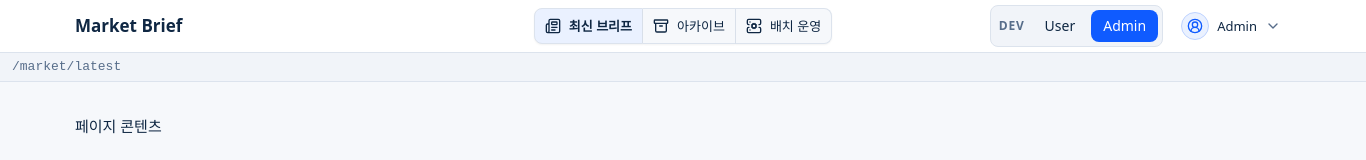
Test: AppShell › shows the role alone in the profile menu when the token carries no name
This screenshot has width=1366, height=160.
What coordinates should you click on to do the following:
click the button with aria-label "계정 메뉴"
I would click on:
 (1231, 26)
Its box is [1171, 8, 1291, 44].
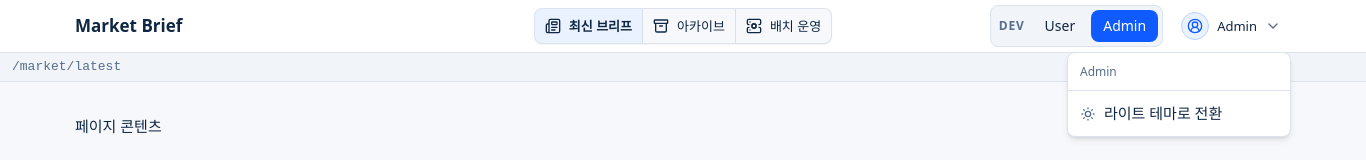
Now the 2nd text "Admin" is shown, box [1080, 63, 1117, 80]
